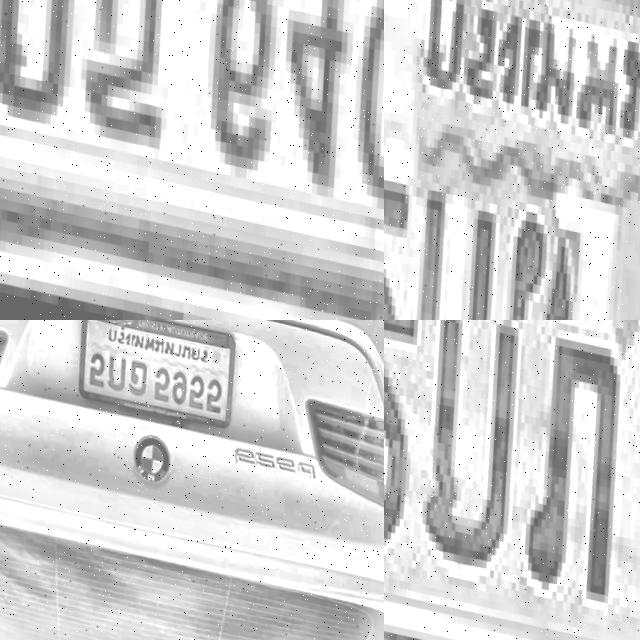license-plate: (0, 0, 384, 320), (384, 0, 640, 320), (384, 320, 640, 640), (60, 320, 240, 432)
